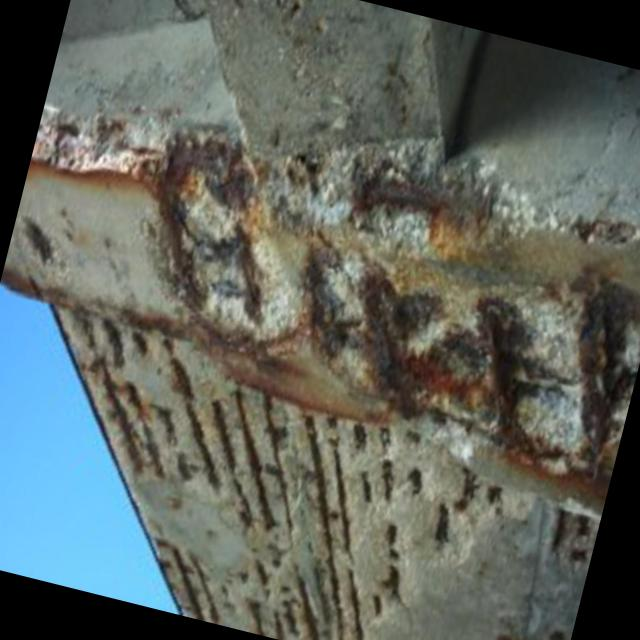spalling: (45, 291, 540, 640), (297, 220, 640, 485), (30, 105, 306, 353), (283, 141, 639, 247)
